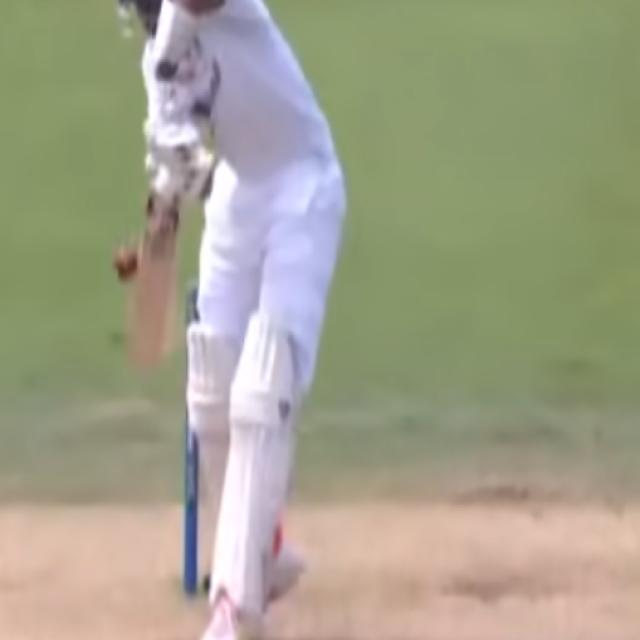ball: (108, 242, 145, 288)
